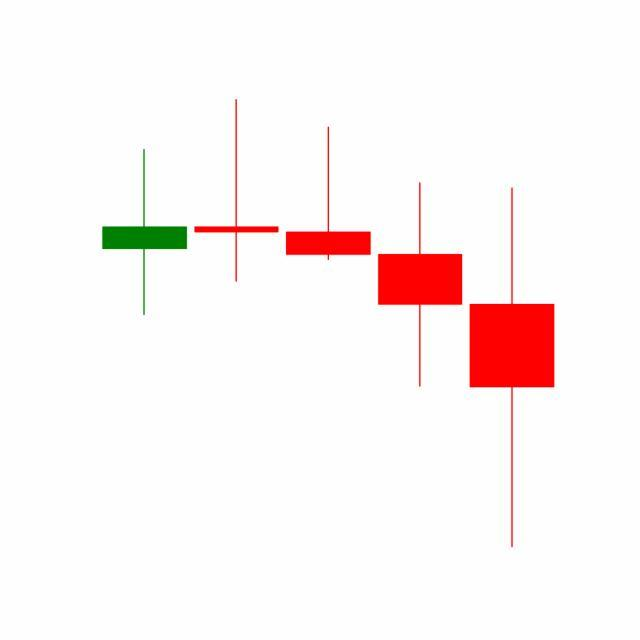Spinning Top: (374, 180, 468, 390)
